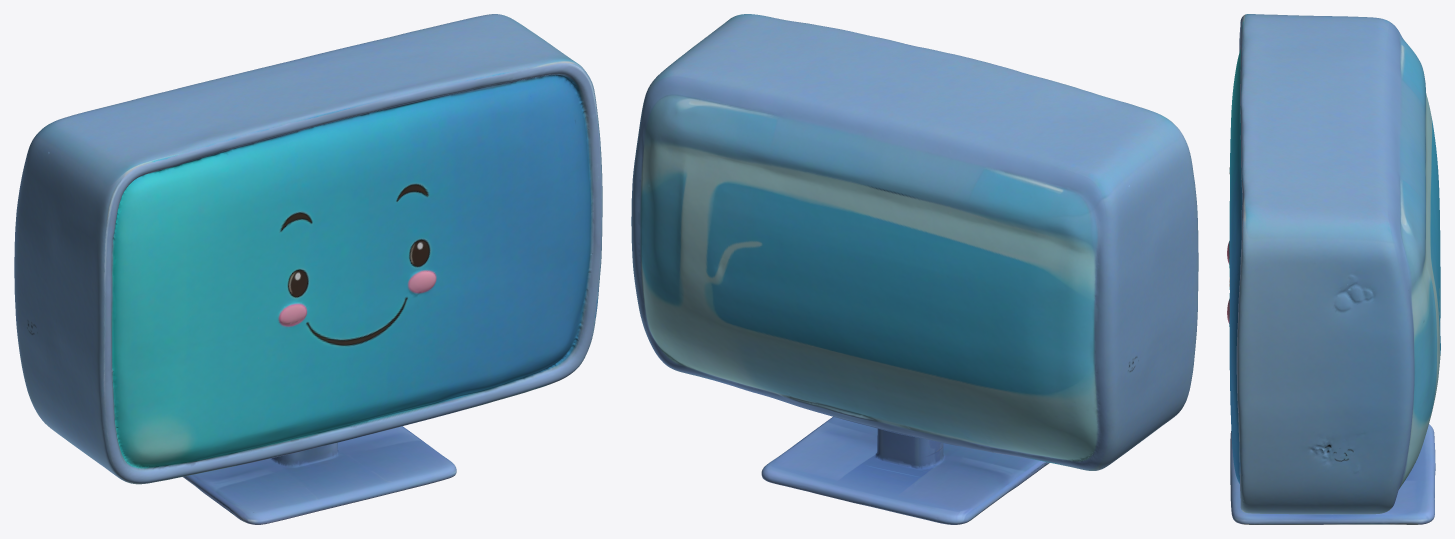
Rendered from screen.glb.
3 views of the same model, side by side, from view 1: azimuth 30°, elevation 25°; view 2: azimuth 150°, elevation 25°; view 3: azimuth 270°, elevation 25° (orthographic). The views are drawn at different scales.
Bounding box in the file's own units: 65588 × 48980 × 25535.
1 material, 1 textured.
